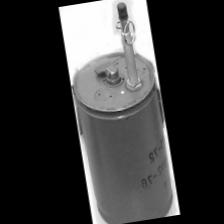OZM-72: (64, 22, 180, 224)
